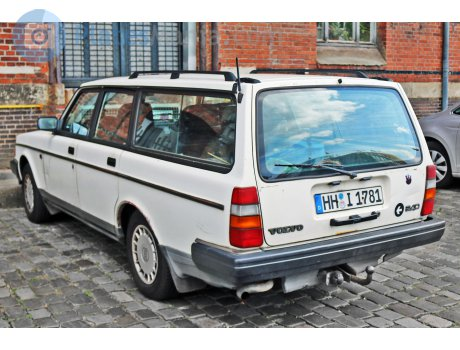License Plates: (315, 193, 390, 210)
